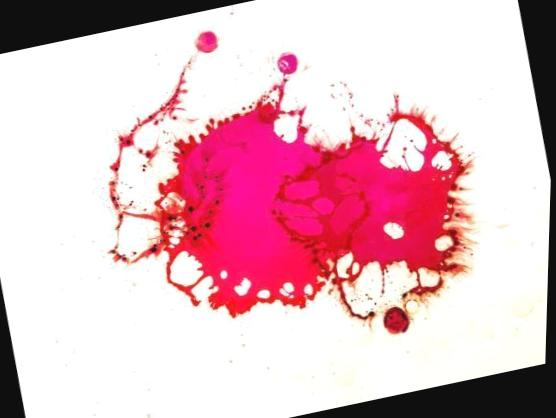Fire: (110, 53, 473, 334), (194, 30, 218, 53)
